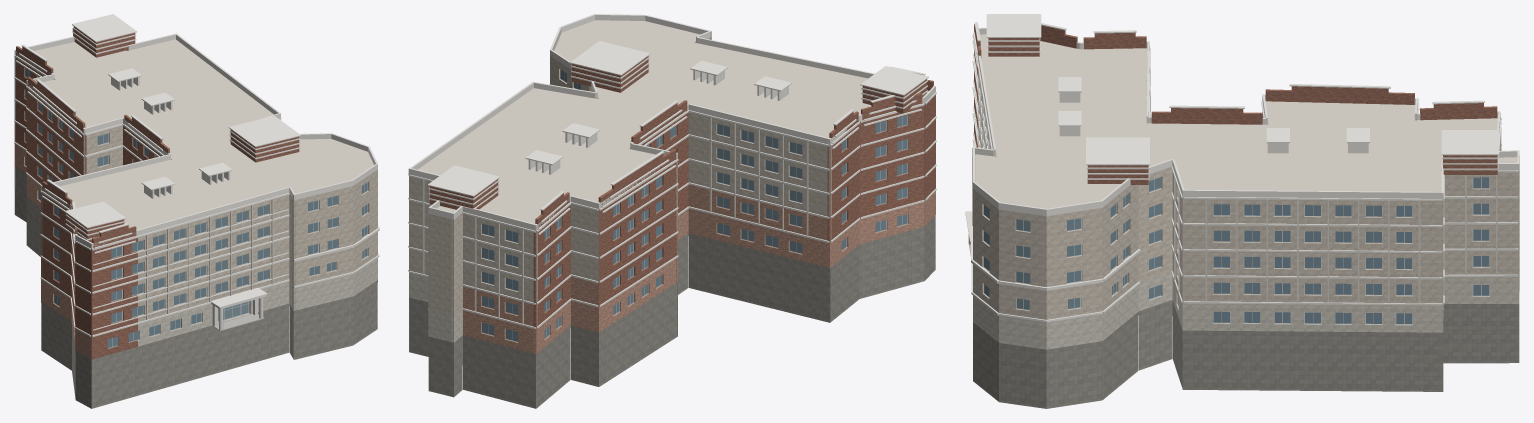
The picture shows the model from 3 angles, left to right: view 1: azimuth 30°, elevation 25°; view 2: azimuth 150°, elevation 25°; view 3: azimuth 270°, elevation 25°; orthographic projection. The views are drawn at different scales.
Parts seen in each view (by area): view 1: hongik__roof, hongik__brick, hongik__skirt, hongik__upperstone, hongik__cap, hongik__trim, hongik__glass, hongik__stone, hongik__frame, hongik__drum, hongik__basebrick, hongik__fin (+4 smaller); view 2: hongik__roof, hongik__brick, hongik__skirt, hongik__upperstone, hongik__basebrick, hongik__cap, hongik__trim, hongik__glass, hongik__foundation, hongik__frame, hongik__fin, hongik__plinth (+1 smaller); view 3: hongik__roof, hongik__upperstone, hongik__skirt, hongik__stone, hongik__cap, hongik__glass, hongik__trim, hongik__brick, hongik__drum, hongik__fin, hongik__foundation, hongik__frame (+1 smaller).
Boxes of the visible parts, <box> form: hongik__roof: <box>34,39,373,229</box>; hongik__brick: <box>14,26,299,359</box>; hongik__skirt: <box>14,190,377,408</box>; hongik__upperstone: <box>15,34,377,322</box>; hongik__cap: <box>14,14,377,307</box>; hongik__trim: <box>14,27,379,336</box>; hongik__glass: <box>25,68,367,347</box>; hongik__stone: <box>137,258,377,346</box>; hongik__frame: <box>25,68,367,348</box>; hongik__drum: <box>292,232,377,286</box>; hongik__basebrick: <box>14,122,91,359</box>; hongik__fin: <box>146,199,273,319</box>; hongik__roof: <box>418,20,928,223</box>; hongik__brick: <box>429,56,935,327</box>; hongik__skirt: <box>409,219,935,408</box>; hongik__upperstone: <box>409,37,831,315</box>; hongik__basebrick: <box>463,184,935,354</box>; hongik__cap: <box>408,14,935,231</box>; hongik__trim: <box>408,57,936,328</box>; hongik__glass: <box>482,69,907,341</box>; hongik__foundation: <box>409,218,935,380</box>; hongik__frame: <box>481,72,908,341</box>; hongik__fin: <box>422,117,808,323</box>; hongik__plinth: <box>409,216,935,356</box>; hongik__roof: <box>975,34,1516,208</box>; hongik__upperstone: <box>972,49,1519,303</box>; hongik__skirt: <box>973,302,1519,408</box>; hongik__stone: <box>973,263,1519,349</box>; hongik__cap: <box>965,14,1519,241</box>; hongik__glass: <box>984,177,1489,323</box>; hongik__trim: <box>971,32,1518,322</box>; hongik__brick: <box>974,24,1497,184</box>; hongik__drum: <box>973,254,1138,319</box>; hongik__fin: <box>978,71,1501,303</box>; hongik__foundation: <box>973,303,1519,358</box>; hongik__frame: <box>983,177,1489,324</box>.
Bounding box in the file's own units: 54.59 × 29.5 × 69.25.
18 materials, 7 textured.
